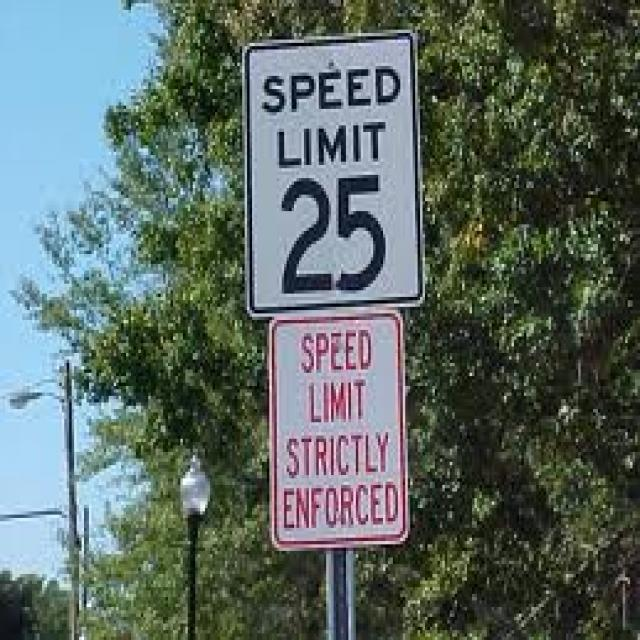regulatory: (237, 34, 434, 315), (255, 308, 423, 562)
